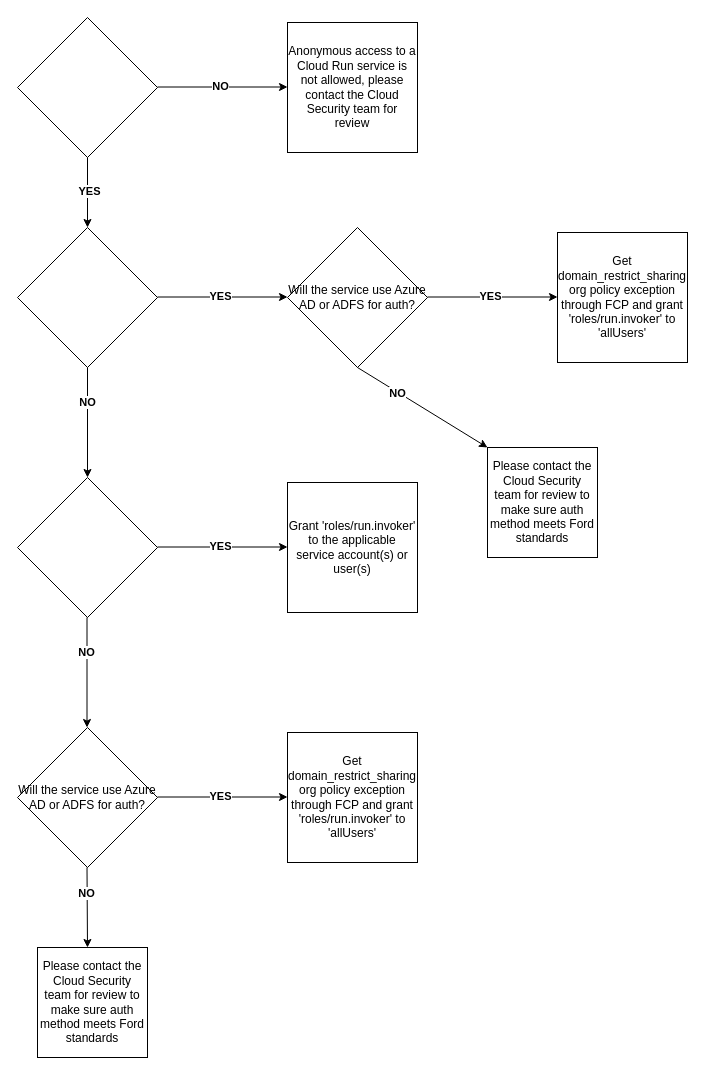
Image size: 705x1075. Some labels were removed from this diagram. The centre of each missing label's shape, as x and y in pixels:
Are the requests able to be authenticated?: point 87,87
Is this a web UI based service?: point 87,297
Will the service use GCP IAM for authentication: point 87,547
